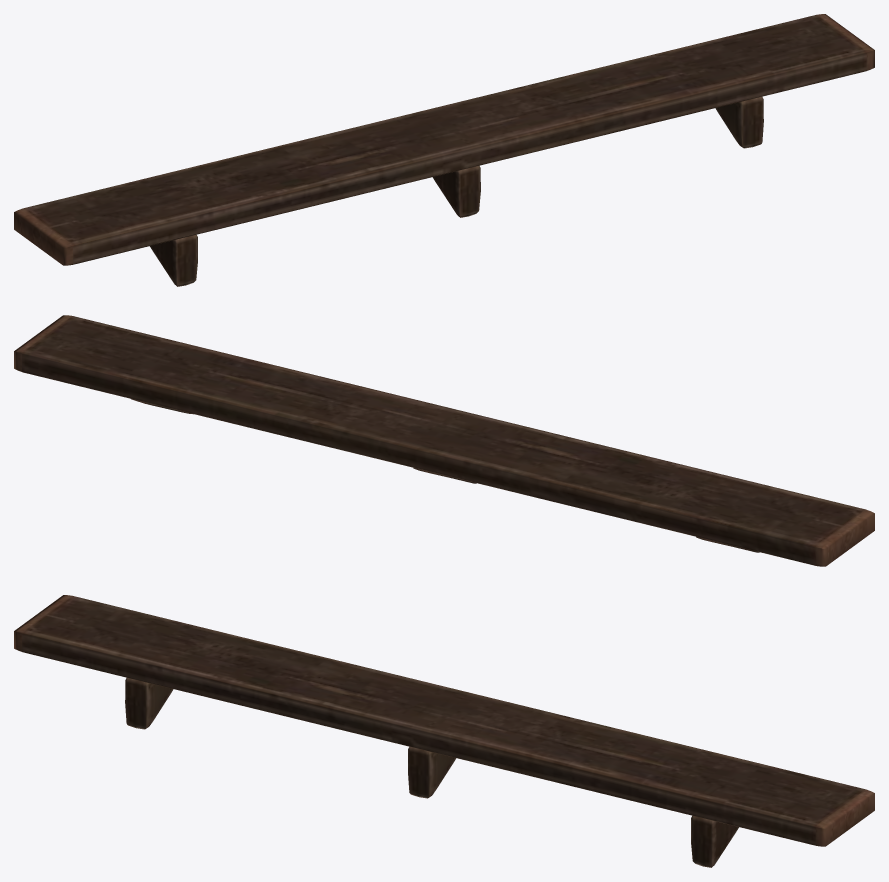
File: Shelf.glb
3 renders of one model, top to bottom at view 1: azimuth 30°, elevation 25°; view 2: azimuth 150°, elevation 25°; view 3: azimuth 330°, elevation 25°, orthographic.
Visible parts, largest first — view 1: Shelf; view 2: Shelf; view 3: Shelf.
Part boxes in pixels (left/top/right/bottom): Shelf: left=14, top=14, right=874, bottom=286; Shelf: left=14, top=315, right=874, bottom=566; Shelf: left=14, top=595, right=874, bottom=867.
Size of what is drawn, in the model's own units: 2.01 by 0.1624 by 0.2186.
Materials: 1 (1 with a texture image).
